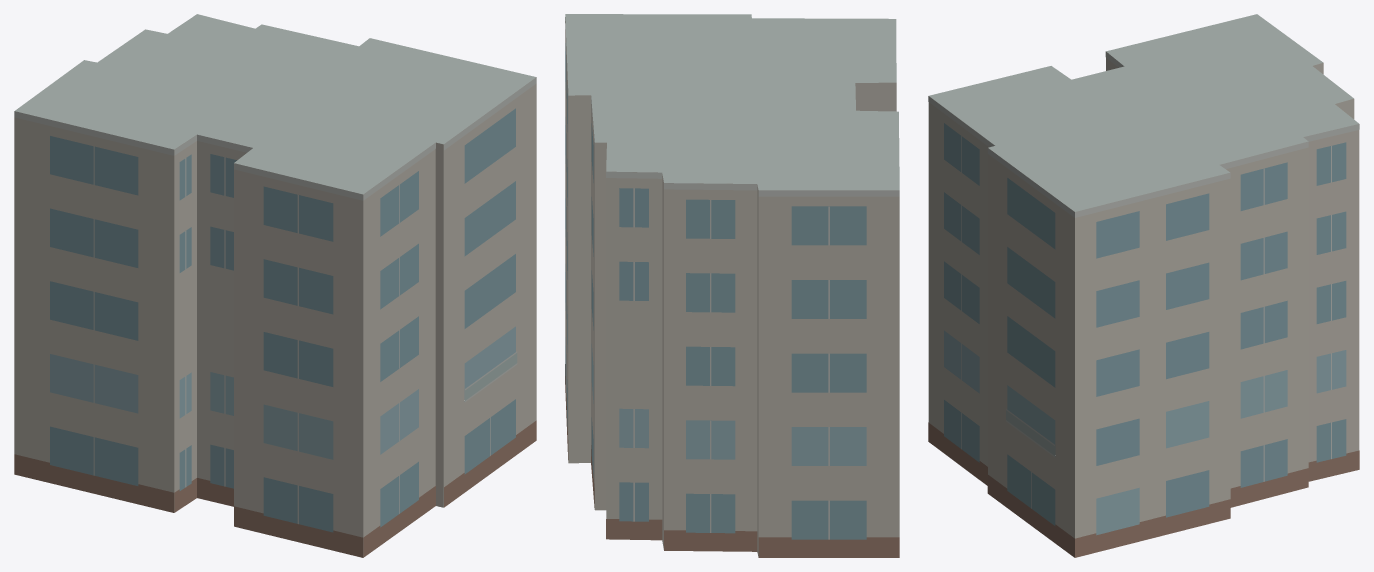
File: survey-upis-32500358.glb
3 views of the same model, side by side, from view 1: azimuth 30°, elevation 25°; view 2: azimuth 150°, elevation 25°; view 3: azimuth 270°, elevation 25° (orthographic). The views are drawn at different scales.
Parts seen in each view (by area): view 1: survey-upis-32500358.tmp; view 2: survey-upis-32500358.tmp; view 3: survey-upis-32500358.tmp.
Boxes of the visible parts, box(x1,y1,x2,y2) form: survey-upis-32500358.tmp: box(14, 14, 536, 557); survey-upis-32500358.tmp: box(565, 14, 899, 557); survey-upis-32500358.tmp: box(928, 14, 1359, 557).
Bounding box in the file's own units: 17.32 × 14.1 × 15.93.
